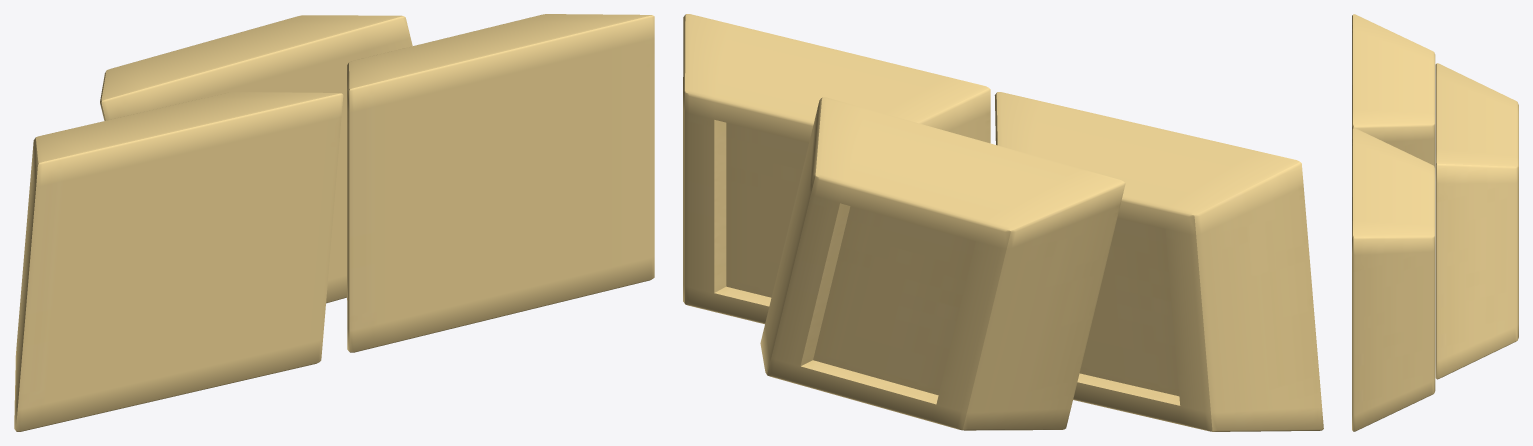
The model's file is gold_bars.glb.
3 views of the same model, side by side, from view 1: azimuth 30°, elevation 25°; view 2: azimuth 150°, elevation 25°; view 3: azimuth 270°, elevation 25° (orthographic). The views are drawn at different scales.
Parts seen in each view (by area): view 1: Object_4; view 2: Object_4; view 3: Object_4.
Part boxes in pixels (box(x1,y1,x2,y2)): Object_4: box(14, 14, 654, 431); Object_4: box(683, 14, 1323, 431); Object_4: box(1352, 14, 1518, 431).
Size of the model in its own units: 0.7201 by 0.2954 by 0.22.
Materials: 1 (1 with a texture image).
